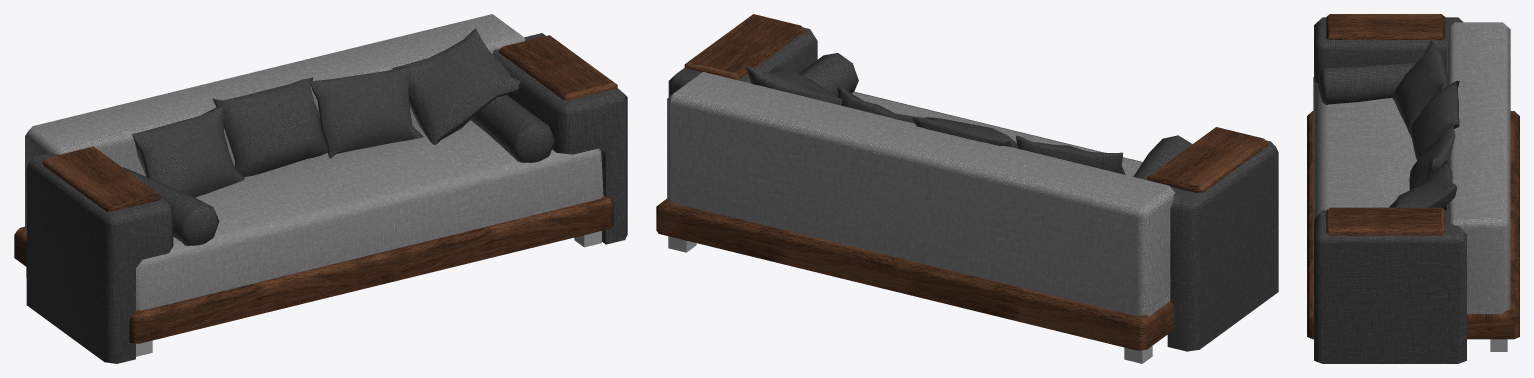
File: sofa_016.fbx
3 views of the same model, side by side, from view 1: azimuth 30°, elevation 25°; view 2: azimuth 150°, elevation 25°; view 3: azimuth 270°, elevation 25° (orthographic). The views are drawn at different scales.
Visible parts, largest first — view 1: sofa_016; view 2: sofa_016; view 3: sofa_016.
Boxes of the visible parts, x1,y1,x2,y2 form: sofa_016: [14, 14, 627, 363]; sofa_016: [656, 14, 1278, 363]; sofa_016: [1307, 14, 1519, 363].
Size of the model in its own units: 371 by 150 by 114.
